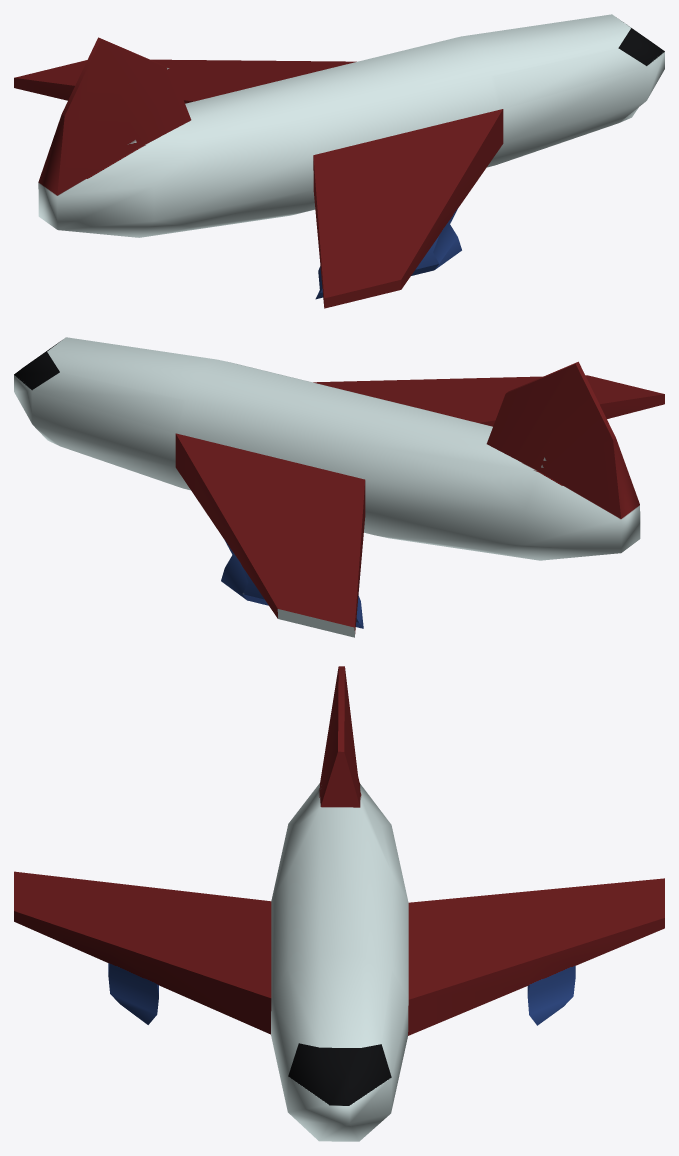
The model's file is airplane.fbx.
The picture shows the model from 3 angles, top to bottom: view 1: azimuth 30°, elevation 25°; view 2: azimuth 150°, elevation 25°; view 3: azimuth 270°, elevation 25°; orthographic projection. The views are drawn at different scales.
Visible parts, largest first — view 1: airplane; view 2: airplane; view 3: airplane.
Part boxes in pixels (bbox=[...]): airplane: bbox=[14, 14, 664, 308]; airplane: bbox=[14, 337, 664, 637]; airplane: bbox=[14, 666, 664, 1141].
Size of the model in its own units: 5.67 by 1.9 by 4.98.
Materials: 1 (1 with a texture image).
